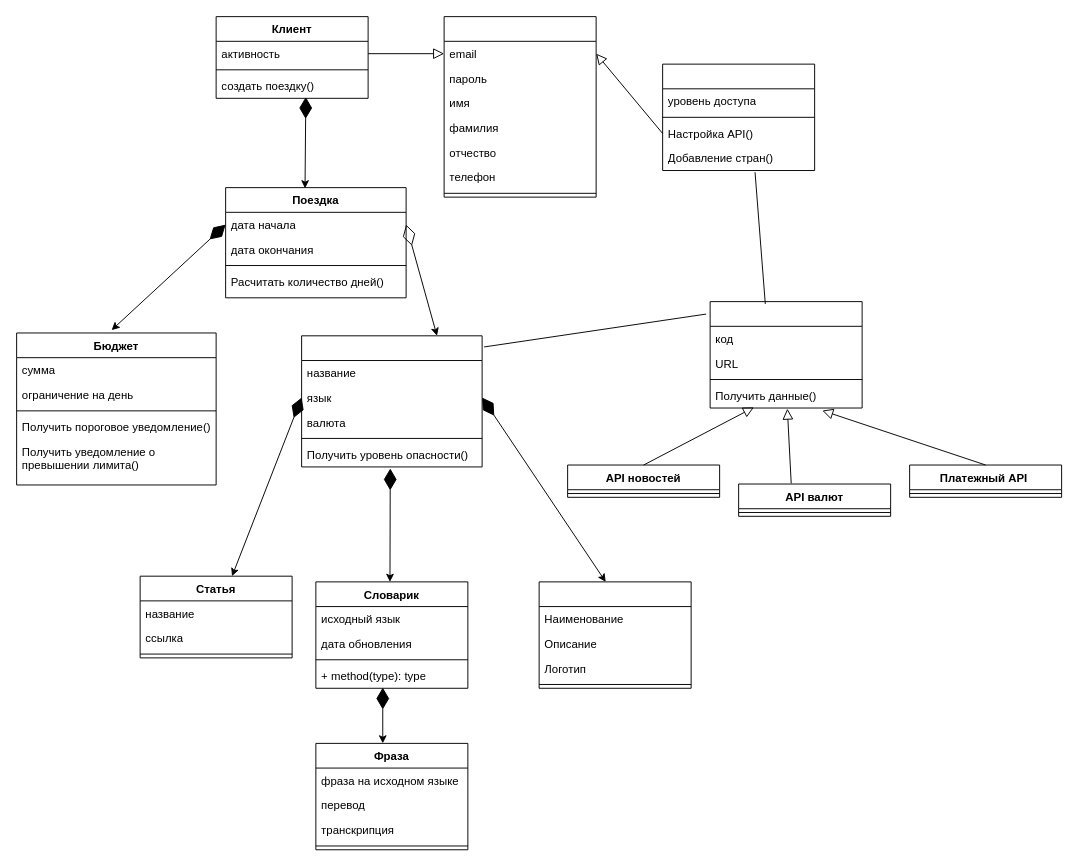
Image size: 1078x866. Some labels were removed from this diagram. The box of each missing label's shape, as (x1, y1, x2, y2) in pixels:
Администратор: (662, 63, 815, 171)
Внешний API: (709, 301, 862, 408)
Локальное приложение: (538, 581, 691, 688)
Пользователь: (443, 16, 596, 197)
Страна: (301, 335, 482, 467)
